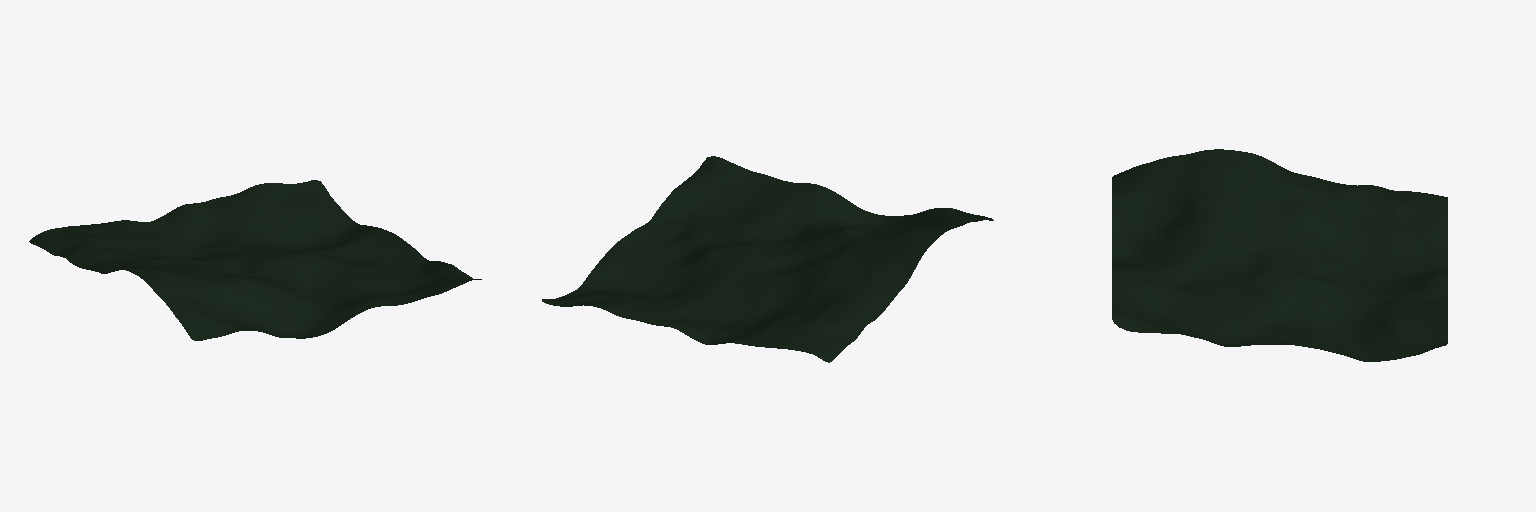
File: Terrain.obj
3 views of the same model, side by side, from view 1: azimuth 30°, elevation 25°; view 2: azimuth 150°, elevation 25°; view 3: azimuth 270°, elevation 25° (orthographic).
Parts seen in each view (by area): view 1: Plane; view 2: Plane; view 3: Plane.
Part boxes in pixels (left/top/right/bottom): Plane: left=29, top=180, right=481, bottom=340; Plane: left=542, top=156, right=993, bottom=362; Plane: left=1112, top=149, right=1447, bottom=361.
Size of the model in its own units: 20 by 4.68 by 20.